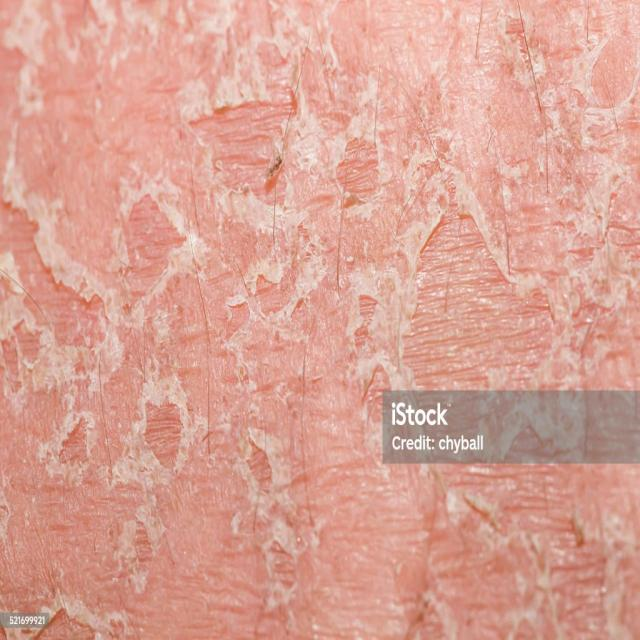Dry-Skin: (2, 157, 214, 640), (430, 112, 640, 494), (220, 304, 464, 596), (243, 10, 404, 313)
